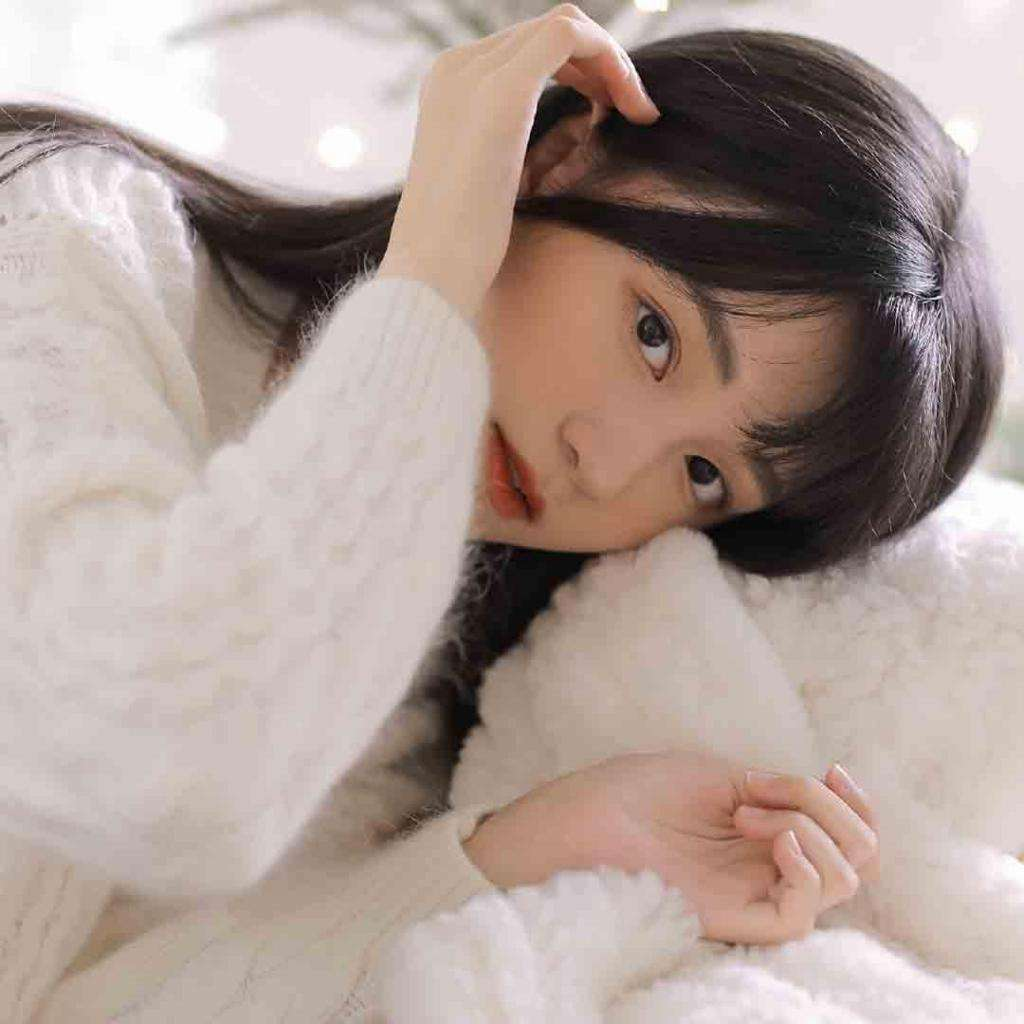person: (34, 36, 949, 936)
